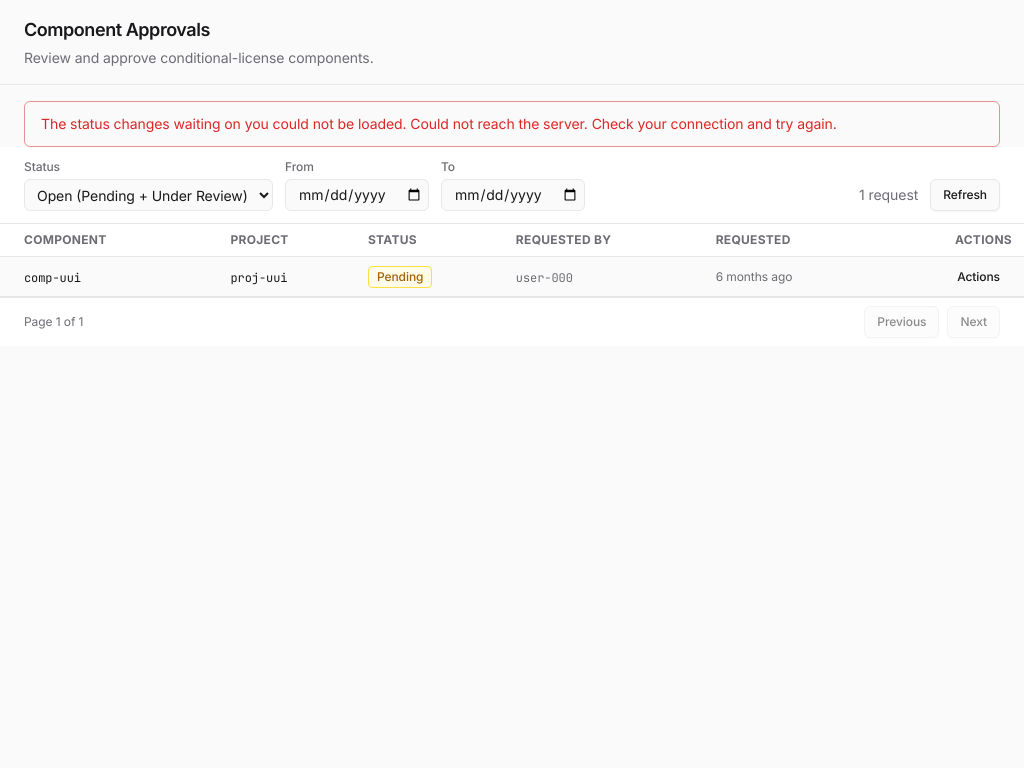
ApprovalsPage › clicking a row opens the approvals drawer
What coordinates should you click on to do the following:
click the row with test id "approvals-row"
I would click on:
 (512, 276)
Its box is [0,256,1023,296].
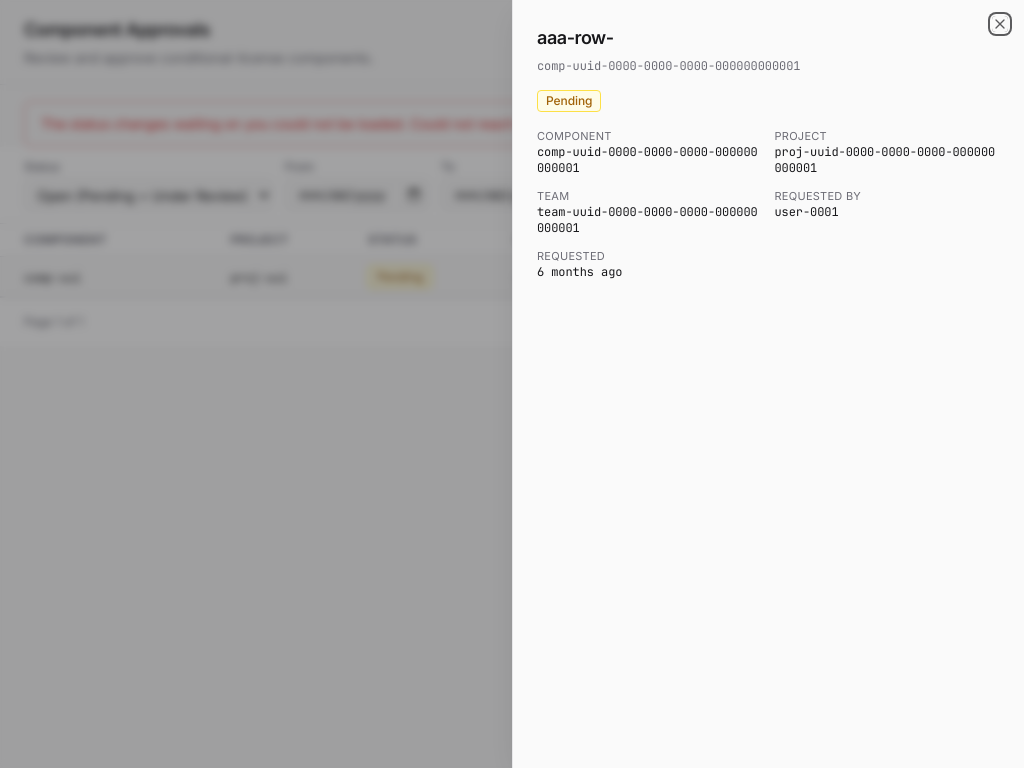
Expected: the dialog with test id "approvals-drawer" is shown, [512,0,1023,767]
